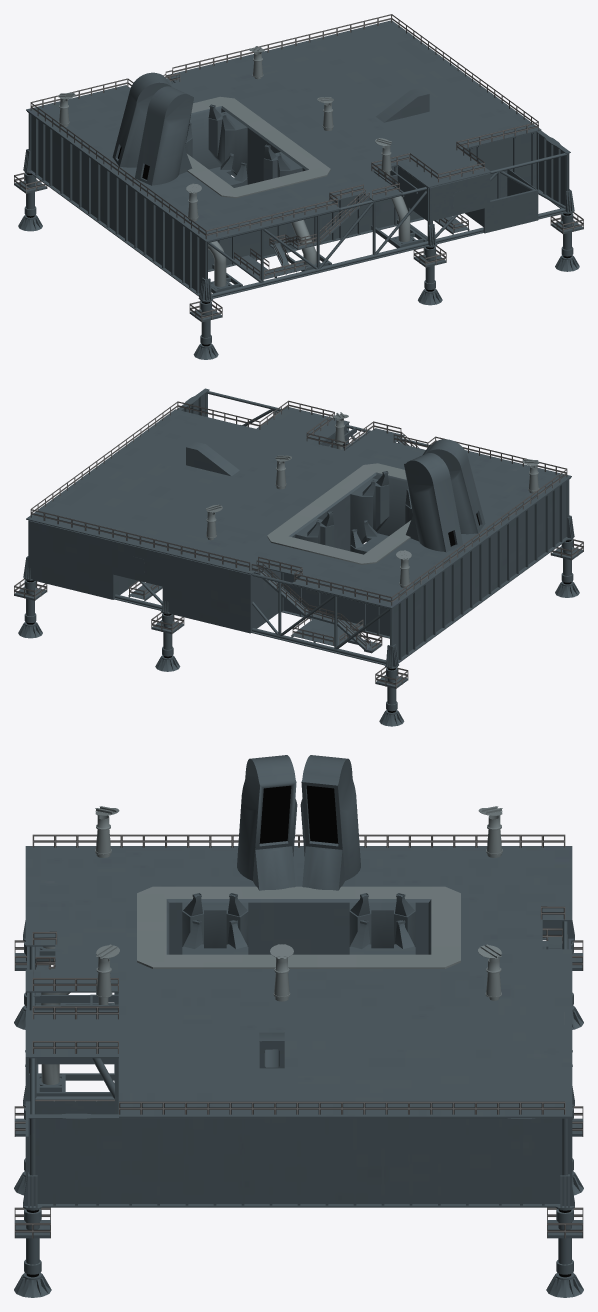
Rendered from mobile-launcher.glb.
3 renders of one model, top to bottom at view 1: azimuth 30°, elevation 25°; view 2: azimuth 150°, elevation 25°; view 3: azimuth 270°, elevation 25°, orthographic. The views are drawn at different scales.
Parts seen in each view (by area): view 1: MLP-1_HP; view 2: MLP-1_HP; view 3: MLP-1_HP.
Boxes of the visible parts, x1,y1,x2,y2 form: MLP-1_HP: (14,14,583,359); MLP-1_HP: (14,388,583,726); MLP-1_HP: (14,755,583,1297).
Bounding box in the file's own units: 1.02 × 0.4966 × 0.8672.
Materials: 2 (2 with a texture image).
